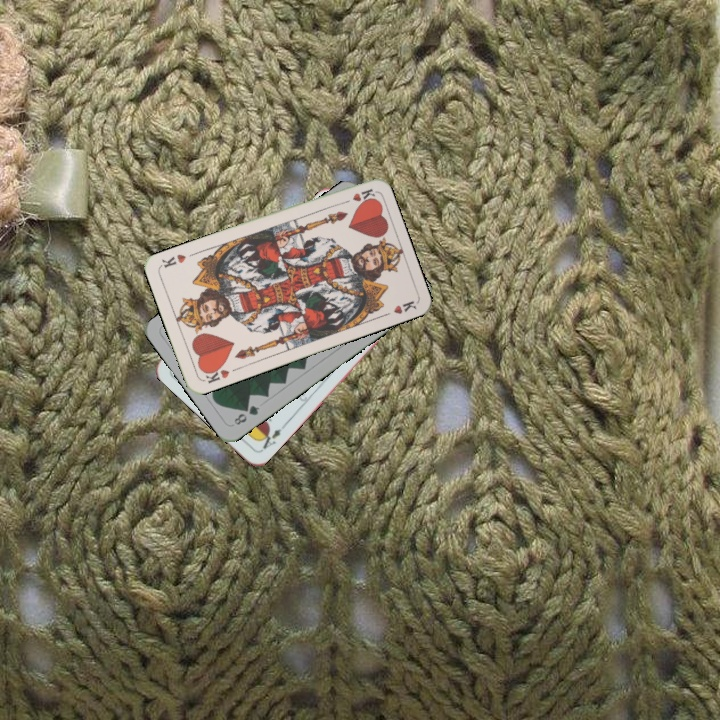EA: (254, 420, 288, 454)
G8: (230, 401, 262, 428)
HK: (336, 185, 377, 207), (200, 361, 232, 386)
